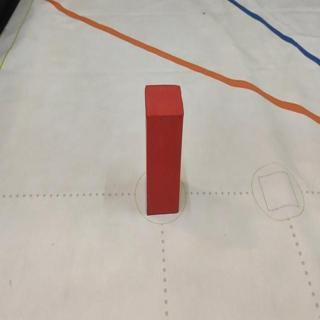redbox: (145, 83, 184, 215)
